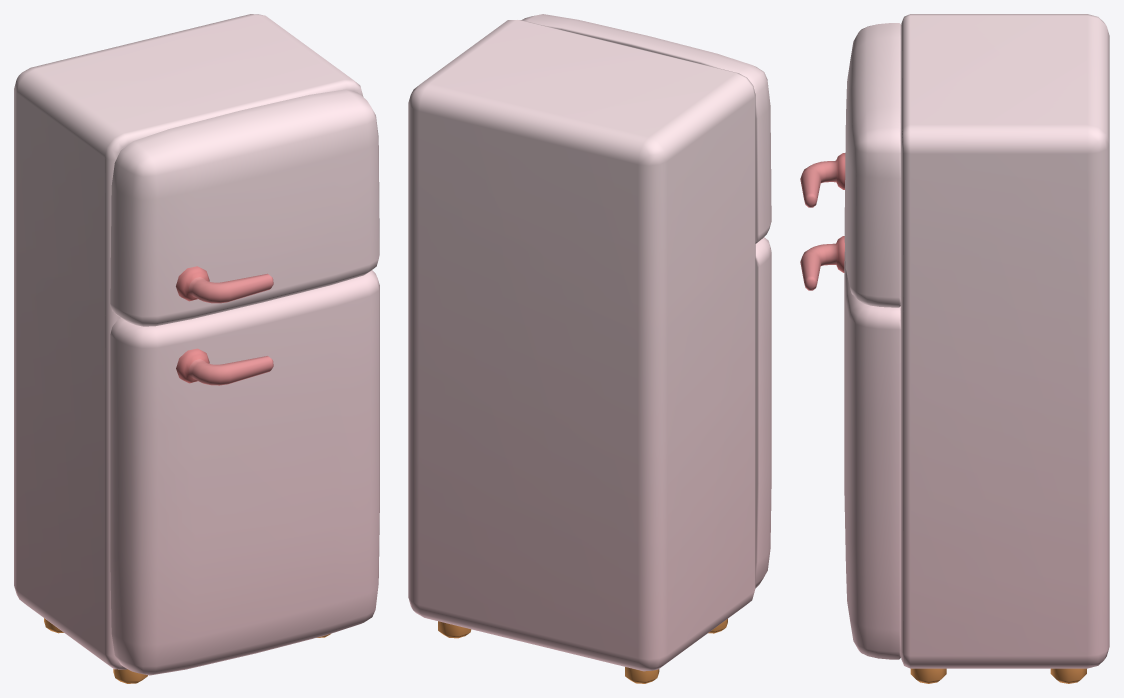
Rendered from Fridge_01.glb.
3 views of the same model, side by side, from view 1: azimuth 30°, elevation 25°; view 2: azimuth 150°, elevation 25°; view 3: azimuth 270°, elevation 25° (orthographic).
Visible parts, largest first — view 1: Fridge_01; view 2: Fridge_01; view 3: Fridge_01.
Boxes of the visible parts, box(x1,y1,x2,y2) form: Fridge_01: box(14, 14, 379, 683); Fridge_01: box(408, 14, 771, 683); Fridge_01: box(800, 14, 1109, 683).
Bounding box in the file's own units: 0.68 × 1.4 × 0.6985.
2 materials, 2 textured.
